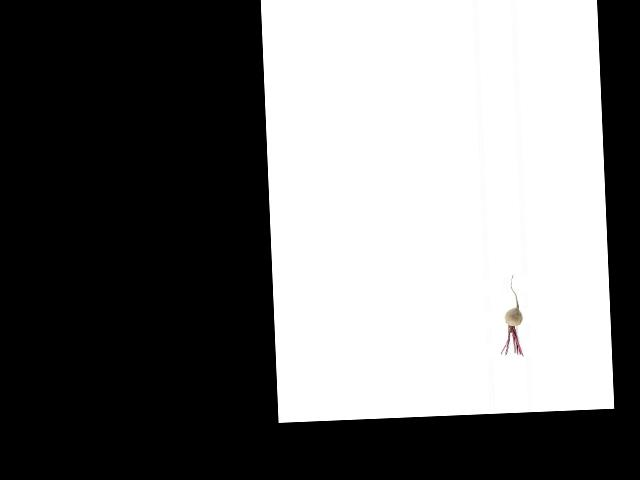beet: (498, 273, 524, 356)
